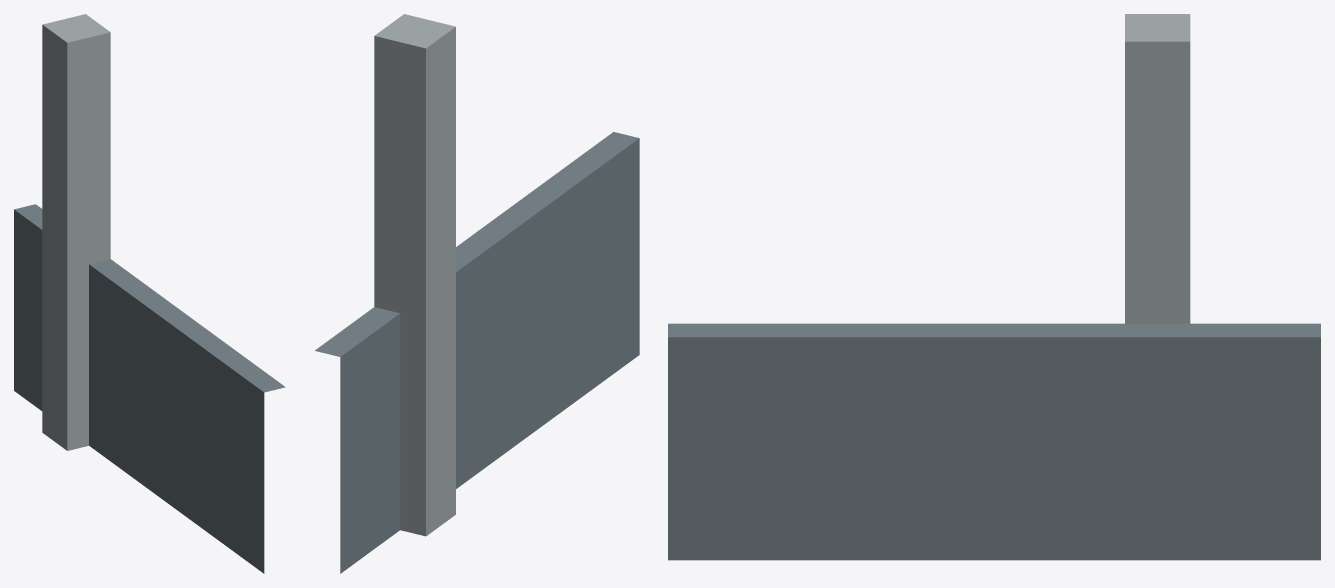
The model's file is cell_55.obj.
3 renders of one model, left to right at view 1: azimuth 30°, elevation 25°; view 2: azimuth 150°, elevation 25°; view 3: azimuth 270°, elevation 25°, orthographic. The views are drawn at different scales.
Size of the model in its own units: 0.1 by 0.9 by 1.
